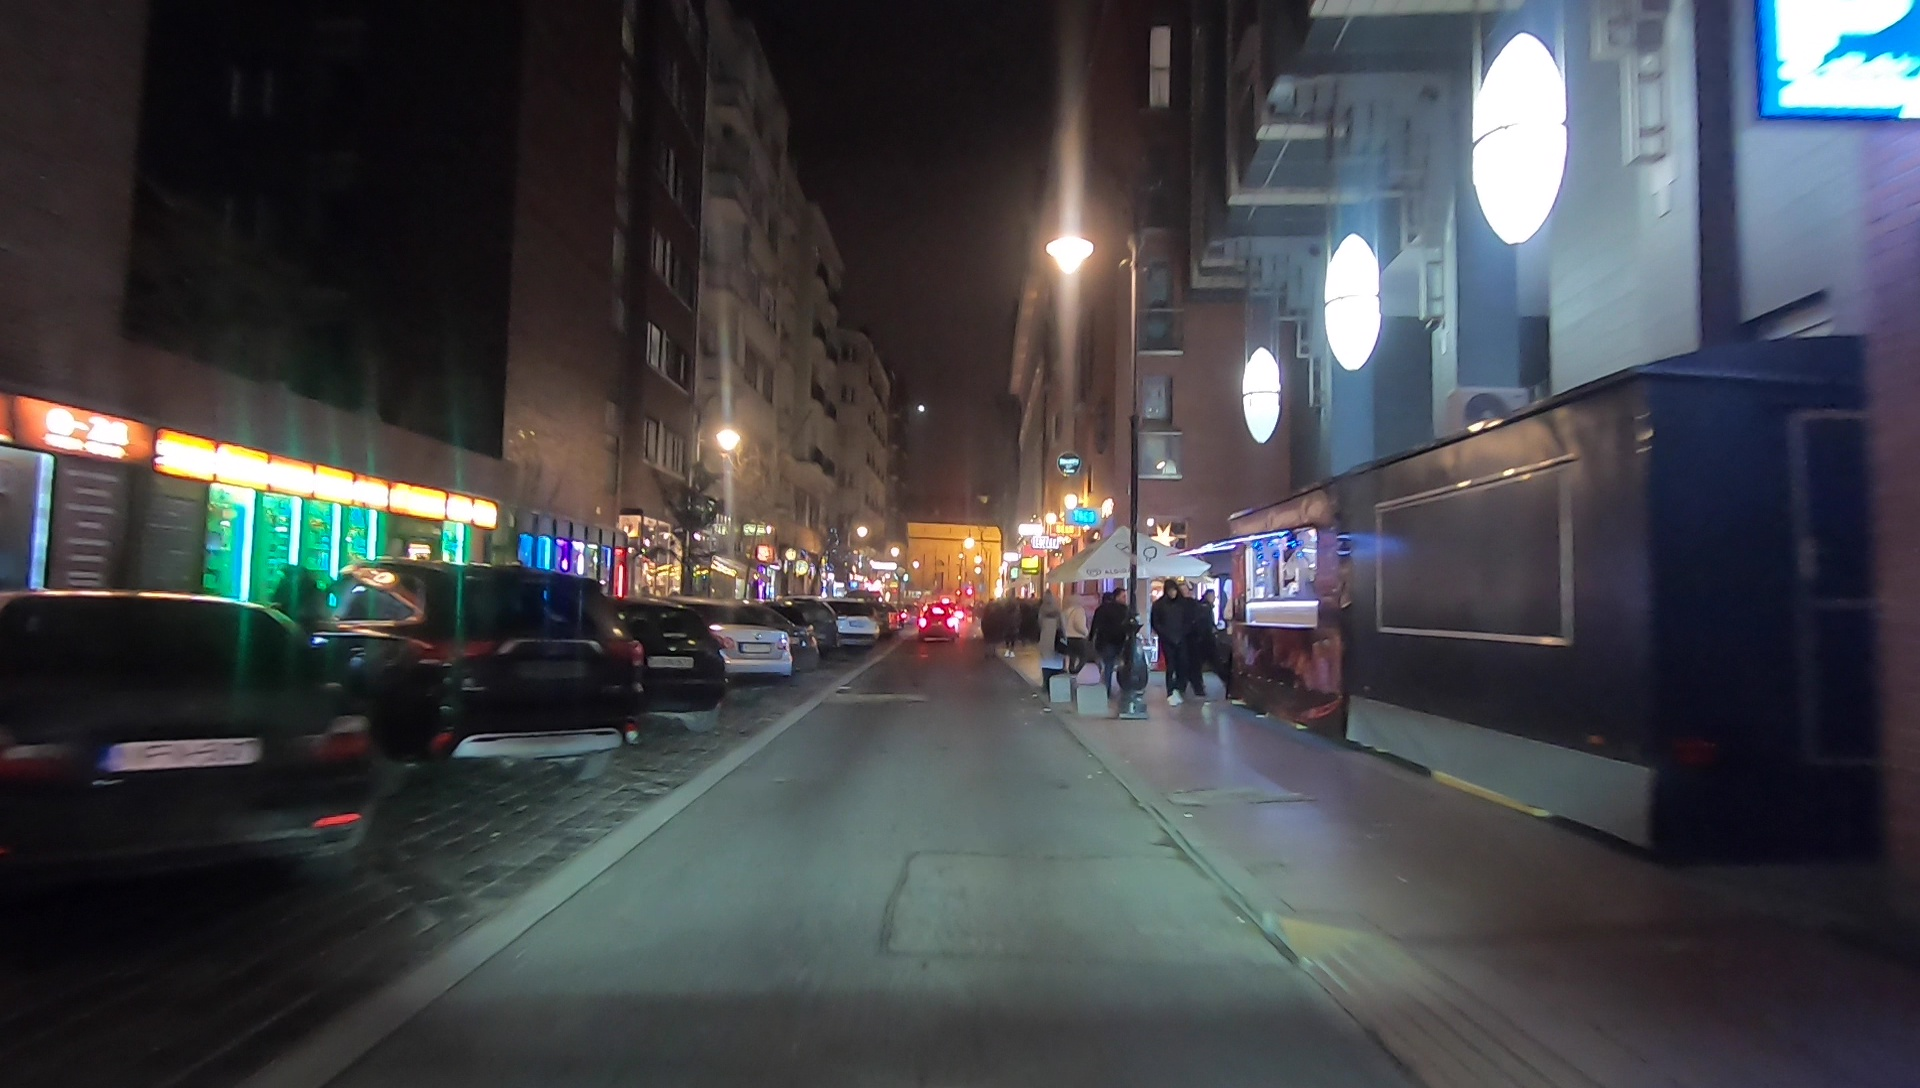person: (1194, 581, 1233, 709), (1155, 581, 1192, 695), (1097, 592, 1125, 689), (1042, 587, 1067, 686), (1066, 596, 1087, 676), (1004, 589, 1023, 662), (981, 592, 1003, 654)
